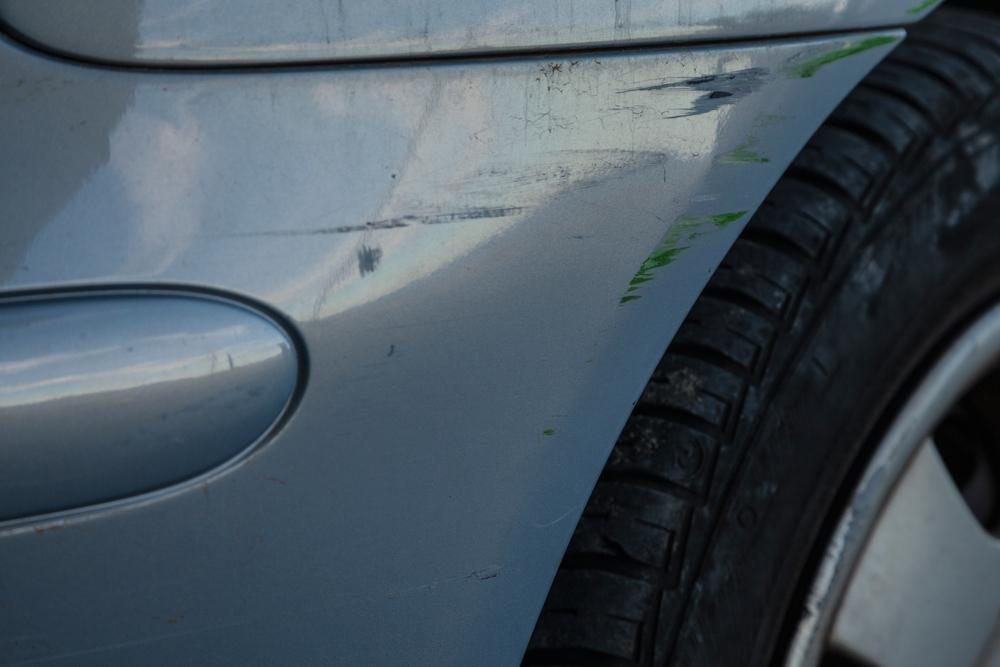scratch: (178, 32, 899, 314)
